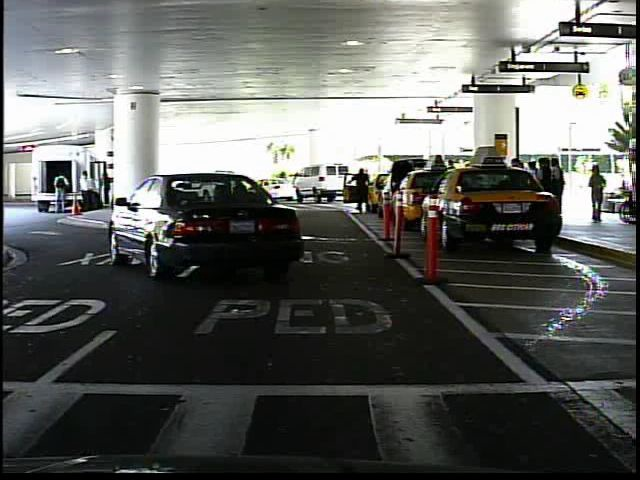person: (351, 166, 375, 218), (589, 163, 608, 226)
